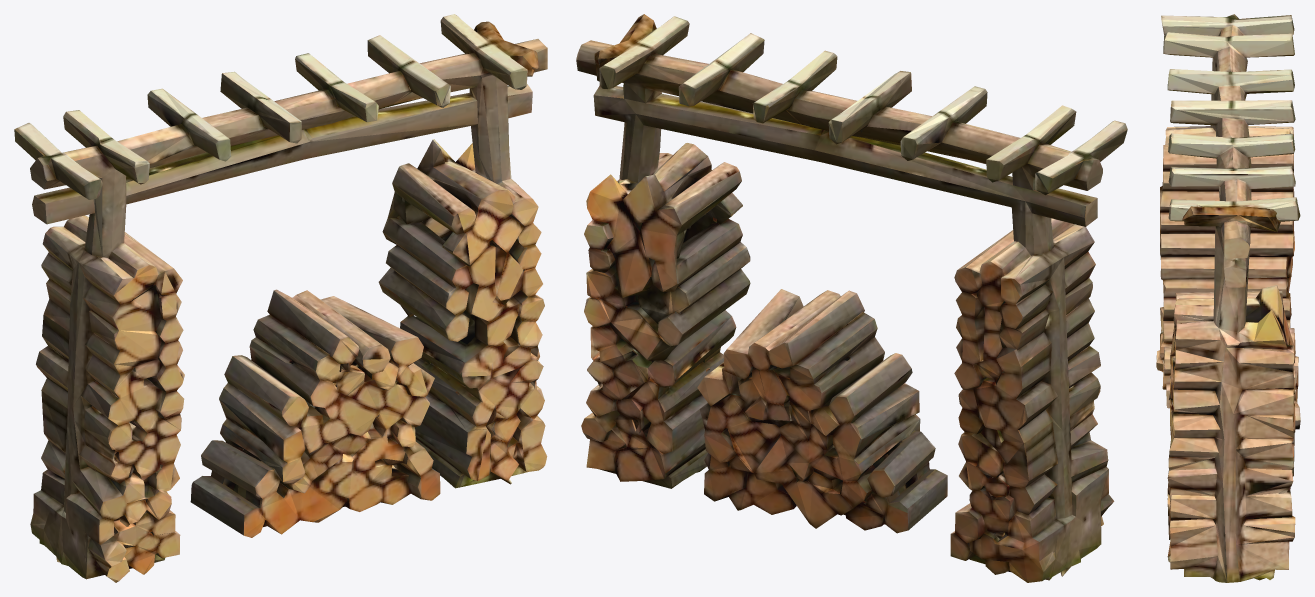
The model's file is prop_firewood_stack_02.glb.
The picture shows the model from 3 angles, left to right: view 1: azimuth 30°, elevation 25°; view 2: azimuth 150°, elevation 25°; view 3: azimuth 270°, elevation 25°; orthographic projection. The views are drawn at different scales.
Parts seen in each view (by area): view 1: geometry_0; view 2: geometry_0; view 3: geometry_0.
Part boxes in pixels (bbox=[...]): geometry_0: bbox=[14, 14, 547, 582]; geometry_0: bbox=[576, 14, 1127, 582]; geometry_0: bbox=[1156, 14, 1300, 582].
Bounding box in the file's own units: 0.998 × 0.8046 × 0.2791.
1 material, 1 textured.
